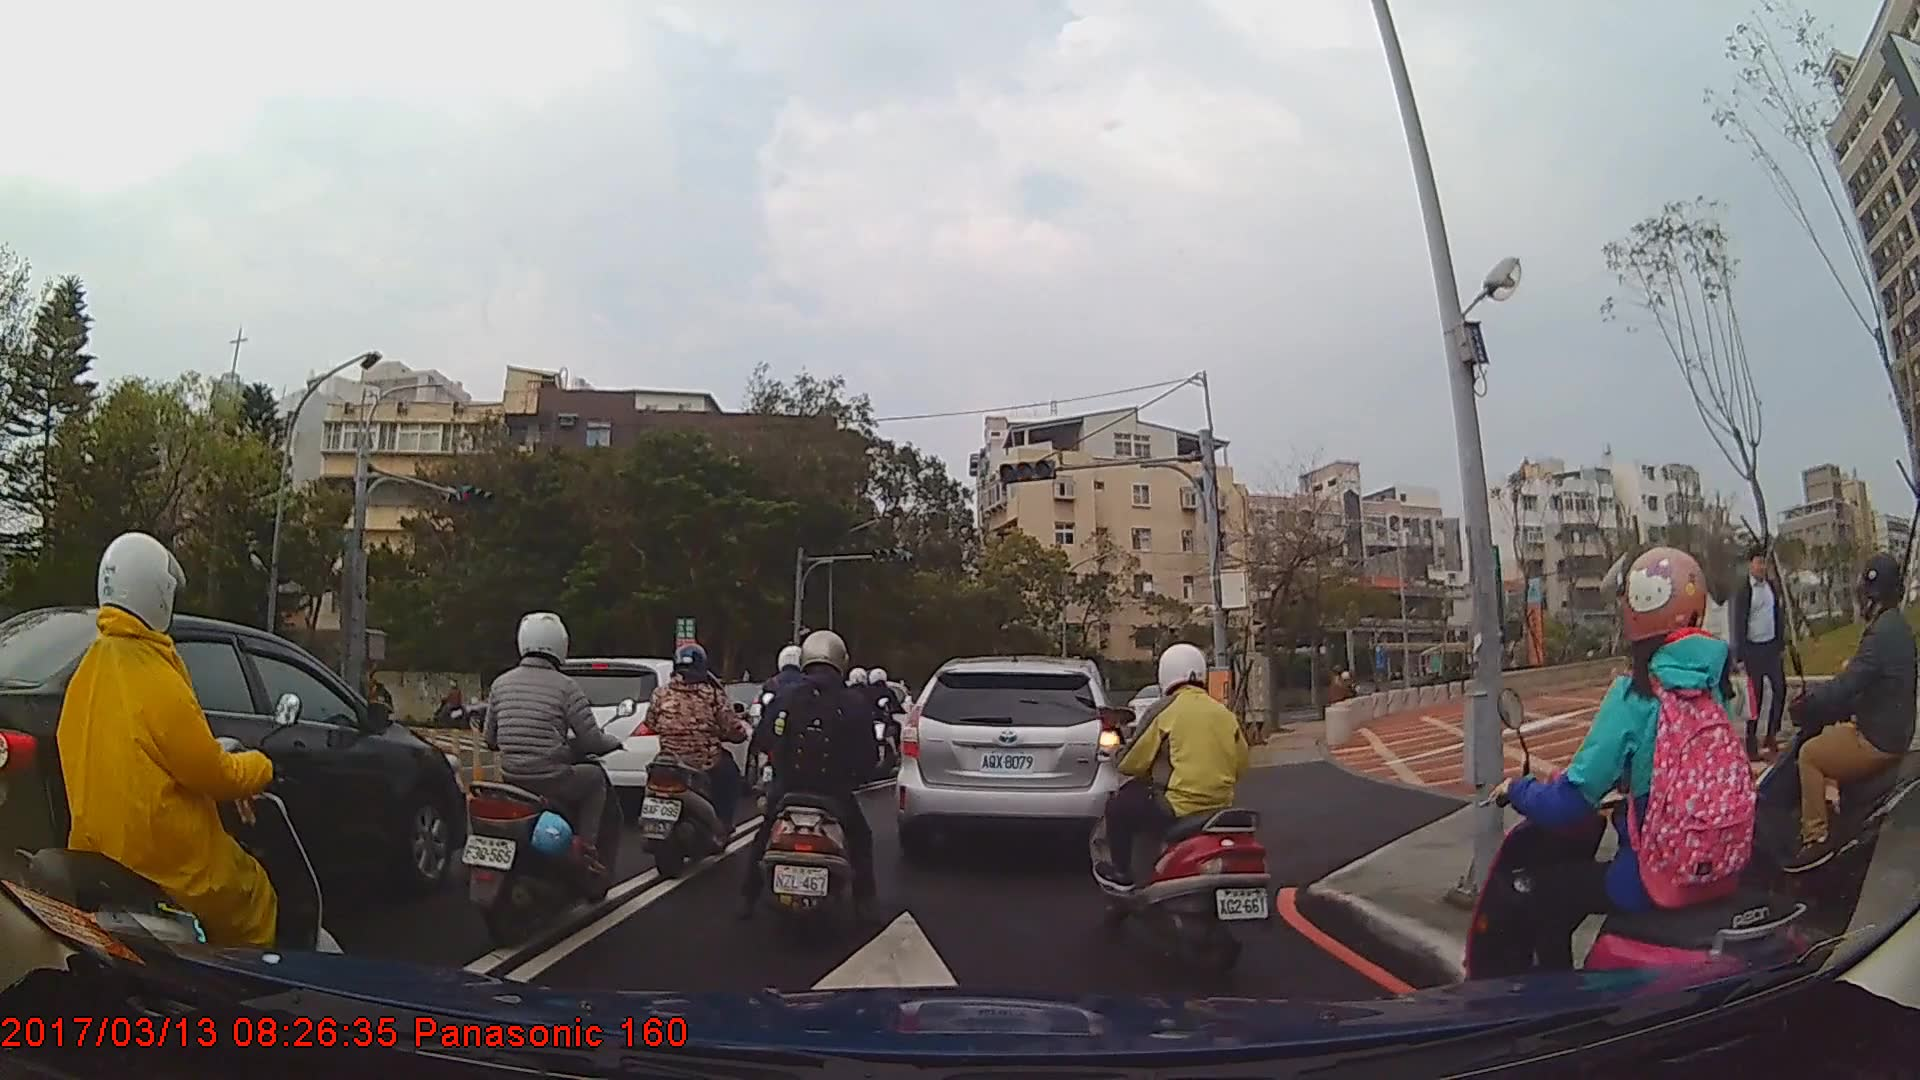rider: (1464, 544, 1806, 1051), (17, 534, 331, 1034), (1086, 642, 1275, 971), (1750, 550, 1913, 922), (457, 607, 619, 952), (748, 632, 887, 948), (636, 642, 754, 878)
vehicle: (0, 605, 467, 933), (891, 656, 1133, 854), (521, 656, 759, 817)
